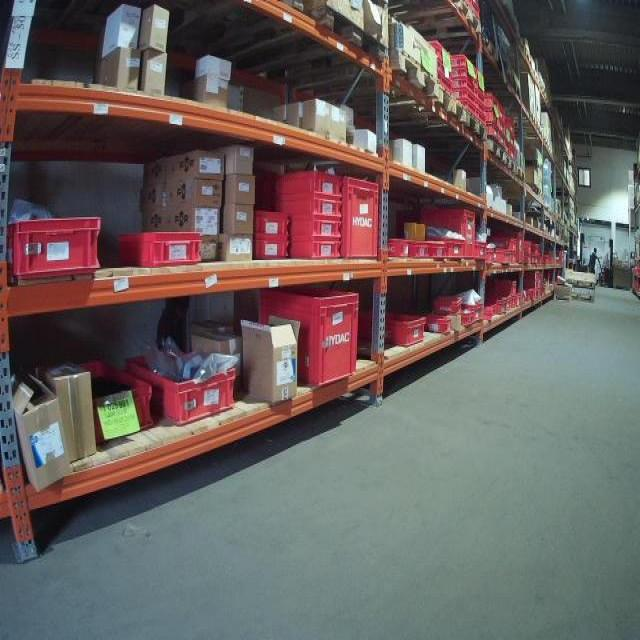pallet: (181, 13, 393, 89), (308, 43, 440, 112), (375, 95, 492, 148), (345, 87, 469, 136), (386, 3, 484, 40), (434, 131, 510, 171), (492, 152, 516, 181), (567, 292, 595, 304), (566, 280, 595, 289), (516, 161, 527, 184)
pallet_truck: (598, 233, 619, 289), (566, 229, 591, 271)
small_load_carrier: (260, 287, 356, 386), (54, 359, 155, 443), (130, 360, 231, 424), (6, 214, 102, 277), (335, 172, 381, 262), (351, 301, 424, 347), (123, 228, 202, 267), (421, 206, 477, 257), (258, 166, 342, 195), (262, 214, 344, 238), (262, 195, 341, 214), (293, 237, 343, 267), (253, 211, 292, 237), (255, 237, 292, 259), (418, 309, 449, 333), (448, 53, 480, 76), (386, 234, 413, 261), (427, 38, 454, 63), (432, 291, 461, 313), (455, 300, 480, 325), (437, 236, 465, 258), (488, 234, 518, 253), (485, 297, 504, 327), (489, 276, 517, 296), (450, 68, 480, 86), (427, 241, 447, 266), (453, 95, 475, 116), (409, 241, 430, 260), (461, 308, 477, 331), (434, 79, 453, 98), (472, 241, 487, 261), (495, 247, 512, 263), (438, 59, 450, 81), (451, 82, 475, 93), (483, 303, 495, 321), (484, 249, 498, 263), (500, 296, 510, 313), (509, 299, 516, 310), (511, 253, 518, 263), (517, 293, 522, 306)
